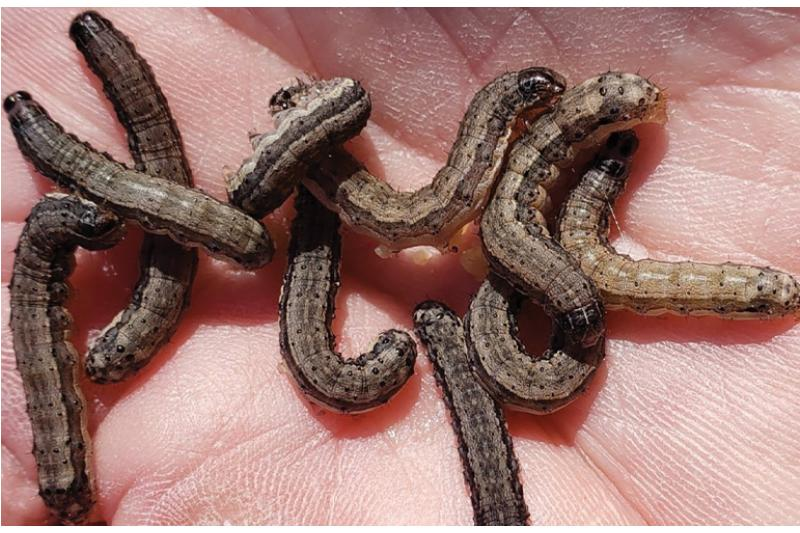fall-armyworm: (286, 68, 567, 260), (476, 73, 669, 350), (3, 92, 275, 272), (70, 11, 199, 387), (555, 131, 800, 323), (6, 188, 132, 527), (279, 167, 418, 411), (412, 301, 530, 527), (462, 263, 608, 417), (226, 79, 373, 225)
